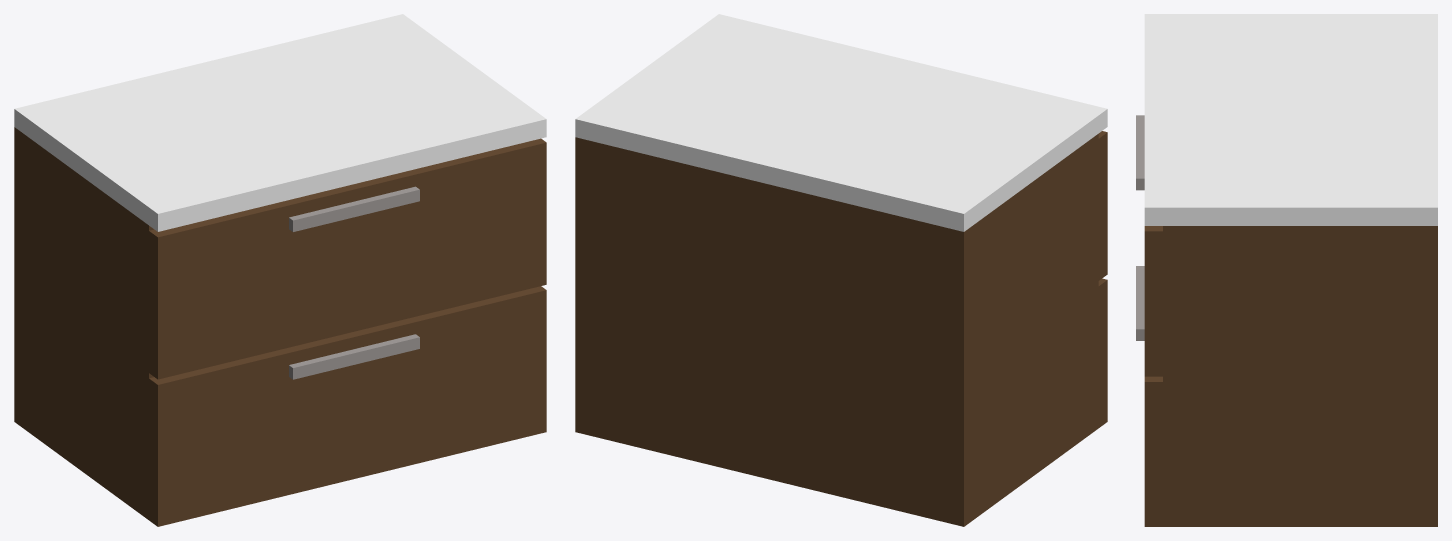
File: furniture_cabinet-bathroom-modern.fbx
3 views of the same model, side by side, from view 1: azimuth 30°, elevation 25°; view 2: azimuth 150°, elevation 25°; view 3: azimuth 270°, elevation 25° (orthographic). The views are drawn at different scales.
Parts seen in each view (by area): view 1: furniture_cabinet_bathroom_modern; view 2: furniture_cabinet_bathroom_modern; view 3: furniture_cabinet_bathroom_modern.
Boxes of the visible parts, bbox=[...] form: furniture_cabinet_bathroom_modern: bbox=[14, 14, 546, 526]; furniture_cabinet_bathroom_modern: bbox=[575, 14, 1107, 526]; furniture_cabinet_bathroom_modern: bbox=[1136, 14, 1437, 526].
Bounding box in the file's own units: 174 × 134 × 115.
